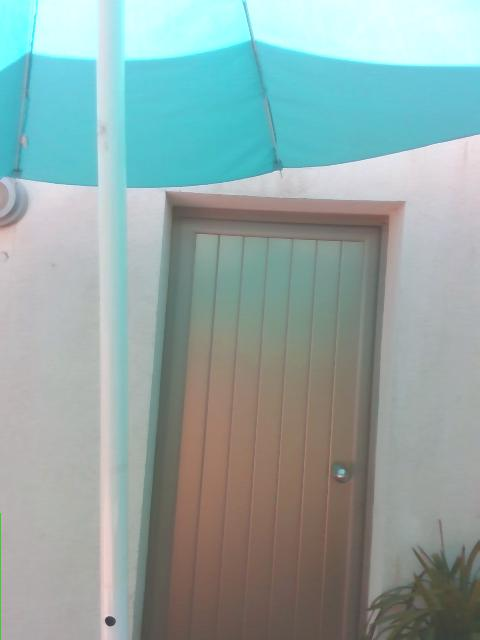closed_door: (130, 192, 402, 639)
